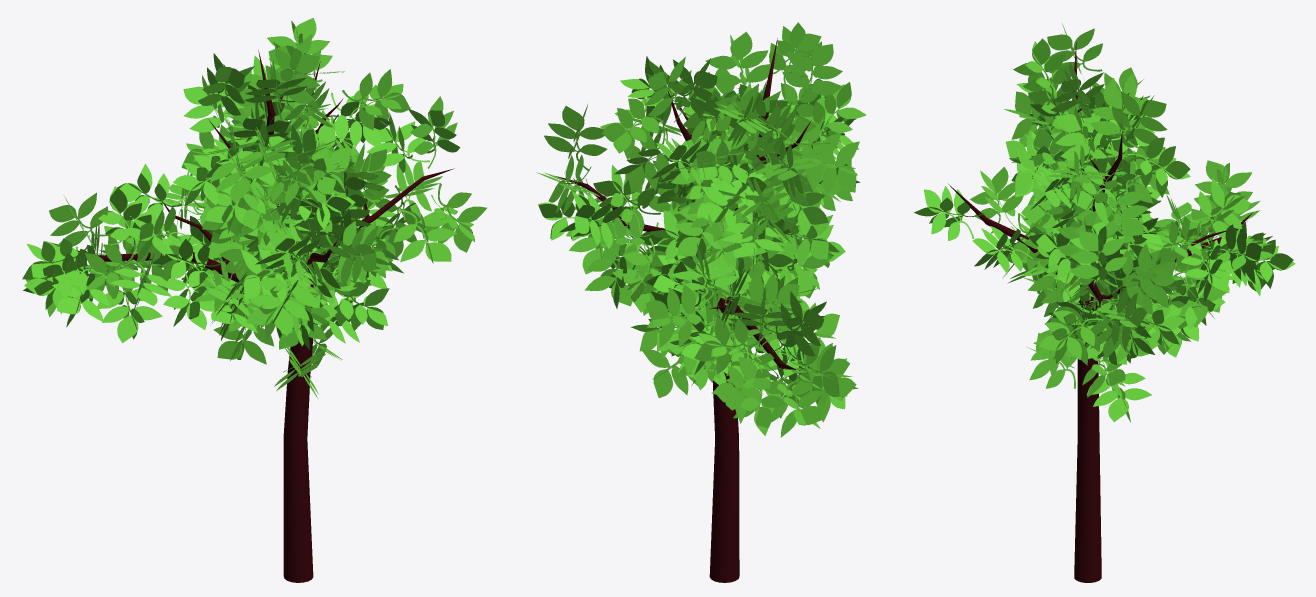
The model's file is tree_for_VR_new_version.fbx.
The picture shows the model from 3 angles, left to right: view 1: azimuth 30°, elevation 25°; view 2: azimuth 150°, elevation 25°; view 3: azimuth 270°, elevation 25°; orthographic projection. The views are drawn at different scales.
Visible parts, largest first — view 1: Tree LOD0 with new leaves, Tree LOD0 with new leaves|Plane|Dupli|91, Tree LOD0 with new leaves|Plane|Dupli|11, Tree LOD0 with new leaves|Plane|Dupli|123, Tree LOD0 with new leaves|Plane|Dupli|162, Tree LOD0 with new leaves|Plane|Dupli|14, Tree LOD0 with new leaves|Plane|Dupli|18, Tree LOD0 with new leaves|Plane|Dupli|140, Tree LOD0 with new leaves|Plane|Dupli|8, Tree LOD0 with new leaves|Plane|Dupli|35, Tree LOD0 with new leaves|Plane|Dupli|39, Tree LOD0 with new leaves|Plane|Dupli|109 (+47 smaller); view 2: Tree LOD0 with new leaves, Tree LOD0 with new leaves|Plane|Dupli|96, Tree LOD0 with new leaves|Plane|Dupli|140, Tree LOD0 with new leaves|Plane|Dupli|65, Tree LOD0 with new leaves|Plane|Dupli|136, Tree LOD0 with new leaves|Plane|Dupli|162, Tree LOD0 with new leaves|Plane|Dupli|38, Tree LOD0 with new leaves|Plane|Dupli|75, Tree LOD0 with new leaves|Plane|Dupli|14, Tree LOD0 with new leaves|Plane|Dupli|30, Tree LOD0 with new leaves|Plane|Dupli|39, Tree LOD0 with new leaves|Plane|Dupli|178 (+64 smaller); view 3: Tree LOD0 with new leaves, Tree LOD0 with new leaves|Plane|Dupli|14, Tree LOD0 with new leaves|Plane|Dupli|12, Tree LOD0 with new leaves|Plane|Dupli|8, Tree LOD0 with new leaves|Plane|Dupli|132, Tree LOD0 with new leaves|Plane|Dupli|86, Tree LOD0 with new leaves|Plane|Dupli|65, Tree LOD0 with new leaves|Plane|Dupli|97, Tree LOD0 with new leaves|Plane|Dupli|69, Tree LOD0 with new leaves|Plane|Dupli|133, Tree LOD0 with new leaves|Plane|Dupli|64, Tree LOD0 with new leaves|Plane|Dupli|88 (+38 smaller).
Boxes of the visible parts, bbox=[...] form: Tree LOD0 with new leaves: bbox=[51, 50, 454, 582]; Tree LOD0 with new leaves|Plane|Dupli|91: bbox=[342, 69, 410, 130]; Tree LOD0 with new leaves|Plane|Dupli|11: bbox=[393, 207, 456, 263]; Tree LOD0 with new leaves|Plane|Dupli|123: bbox=[249, 264, 317, 336]; Tree LOD0 with new leaves|Plane|Dupli|162: bbox=[265, 47, 319, 105]; Tree LOD0 with new leaves|Plane|Dupli|14: bbox=[409, 96, 459, 168]; Tree LOD0 with new leaves|Plane|Dupli|18: bbox=[335, 279, 389, 330]; Tree LOD0 with new leaves|Plane|Dupli|140: bbox=[198, 53, 254, 115]; Tree LOD0 with new leaves|Plane|Dupli|8: bbox=[425, 183, 486, 252]; Tree LOD0 with new leaves|Plane|Dupli|35: bbox=[97, 270, 162, 342]; Tree LOD0 with new leaves|Plane|Dupli|39: bbox=[49, 193, 111, 246]; Tree LOD0 with new leaves|Plane|Dupli|109: bbox=[152, 237, 226, 288]; Tree LOD0 with new leaves: bbox=[556, 38, 829, 582]; Tree LOD0 with new leaves|Plane|Dupli|96: bbox=[645, 284, 708, 347]; Tree LOD0 with new leaves|Plane|Dupli|140: bbox=[782, 41, 842, 106]; Tree LOD0 with new leaves|Plane|Dupli|65: bbox=[600, 98, 663, 159]; Tree LOD0 with new leaves|Plane|Dupli|136: bbox=[807, 133, 859, 195]; Tree LOD0 with new leaves|Plane|Dupli|162: bbox=[705, 31, 770, 99]; Tree LOD0 with new leaves|Plane|Dupli|38: bbox=[694, 316, 765, 374]; Tree LOD0 with new leaves|Plane|Dupli|75: bbox=[771, 377, 823, 437]; Tree LOD0 with new leaves|Plane|Dupli|14: bbox=[544, 104, 606, 172]; Tree LOD0 with new leaves|Plane|Dupli|30: bbox=[711, 357, 770, 423]; Tree LOD0 with new leaves|Plane|Dupli|39: bbox=[773, 291, 826, 356]; Tree LOD0 with new leaves|Plane|Dupli|178: bbox=[559, 191, 622, 248]; Tree LOD0 with new leaves: bbox=[948, 42, 1252, 582]; Tree LOD0 with new leaves|Plane|Dupli|14: bbox=[1070, 230, 1127, 287]; Tree LOD0 with new leaves|Plane|Dupli|12: bbox=[1107, 244, 1174, 306]; Tree LOD0 with new leaves|Plane|Dupli|8: bbox=[1038, 301, 1103, 363]; Tree LOD0 with new leaves|Plane|Dupli|132: bbox=[914, 186, 984, 240]; Tree LOD0 with new leaves|Plane|Dupli|86: bbox=[1013, 38, 1073, 105]; Tree LOD0 with new leaves|Plane|Dupli|65: bbox=[1127, 137, 1190, 197]; Tree LOD0 with new leaves|Plane|Dupli|97: bbox=[1190, 178, 1250, 239]; Tree LOD0 with new leaves|Plane|Dupli|69: bbox=[1110, 91, 1167, 143]; Tree LOD0 with new leaves|Plane|Dupli|133: bbox=[970, 167, 1023, 233]; Tree LOD0 with new leaves|Plane|Dupli|64: bbox=[1093, 188, 1148, 245]; Tree LOD0 with new leaves|Plane|Dupli|88: bbox=[1055, 107, 1113, 160].
Bounding box in the file's own units: 598 × 830 × 568.
